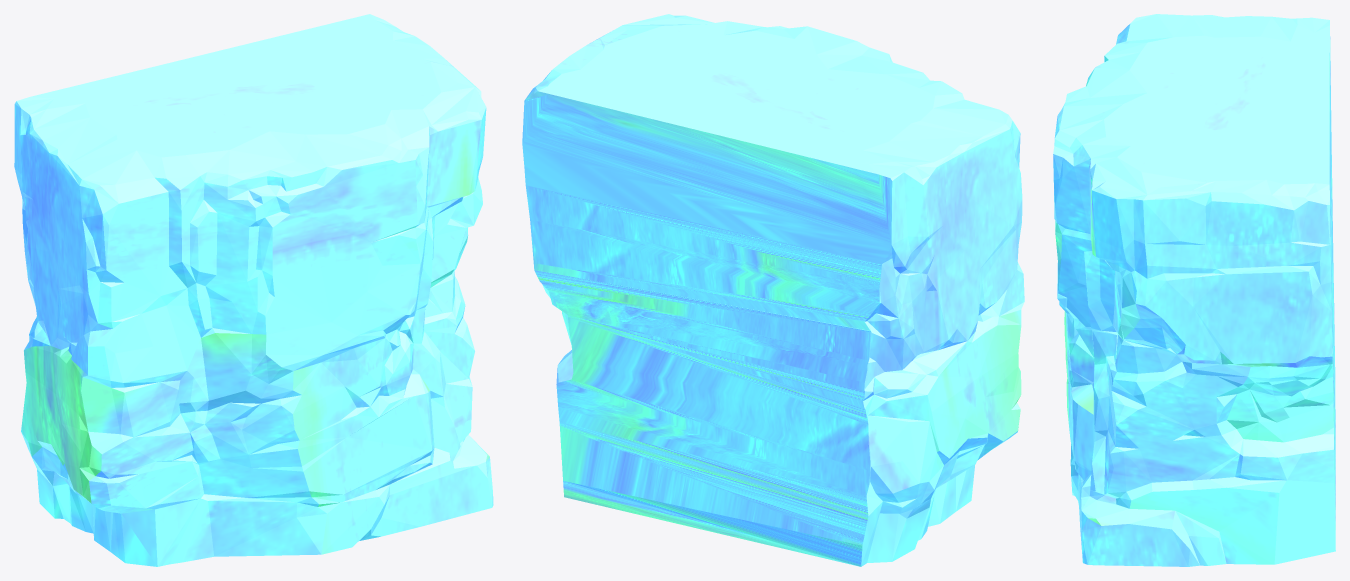
The model's file is CliffRockA.fbx.
The picture shows the model from 3 angles, left to right: view 1: azimuth 30°, elevation 25°; view 2: azimuth 150°, elevation 25°; view 3: azimuth 270°, elevation 25°; orthographic projection. The views are drawn at different scales.
Visible parts, largest first — view 1: Dn_HL_Cliff_Rock_A_Edge_A.mo; view 2: Dn_HL_Cliff_Rock_A_Edge_A.mo; view 3: Dn_HL_Cliff_Rock_A_Edge_A.mo.
Part boxes in pixels (left/top/right/bottom): Dn_HL_Cliff_Rock_A_Edge_A.mo: left=14, top=14, right=493, bottom=566; Dn_HL_Cliff_Rock_A_Edge_A.mo: left=522, top=14, right=1024, bottom=566; Dn_HL_Cliff_Rock_A_Edge_A.mo: left=1053, top=14, right=1335, bottom=566.
Bounding box in the file's own units: 1470 × 1373 × 921.
